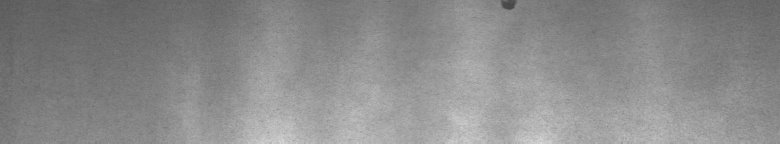fi: (497, 4, 520, 16)
